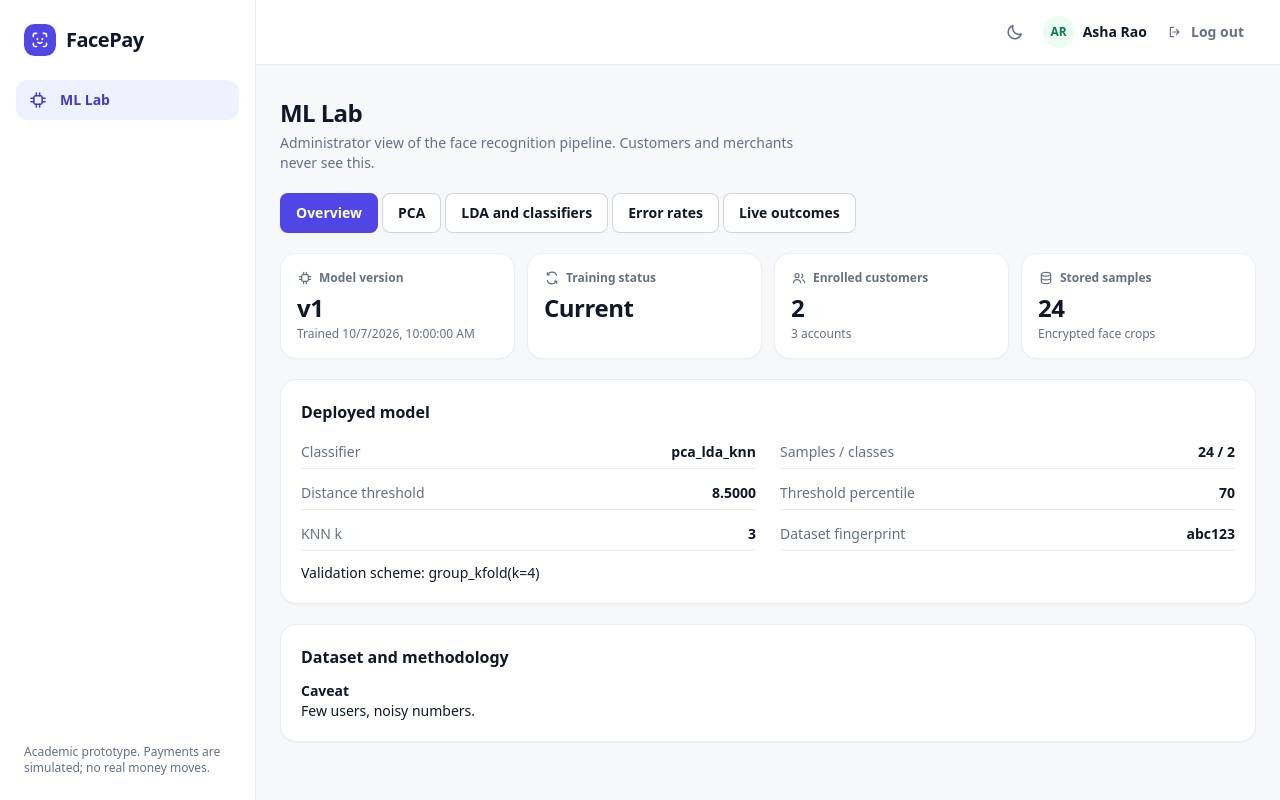
Test: Admin ML Lab › says so when there is no model instead of inventing numbers
Click the tab "PCA": (412, 213) [382,193,441,233]
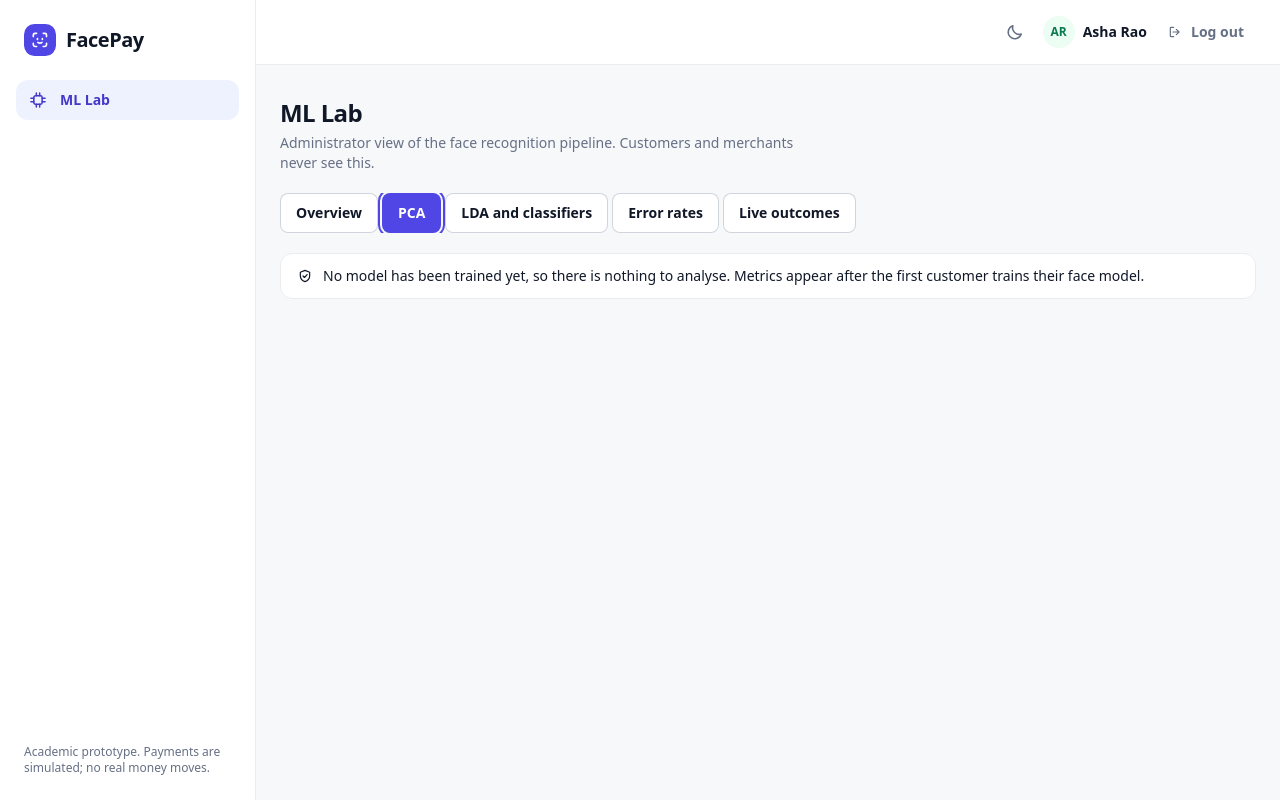
Expected: the text "No model has been trained yet" is shown, [323,266,1144,285]
